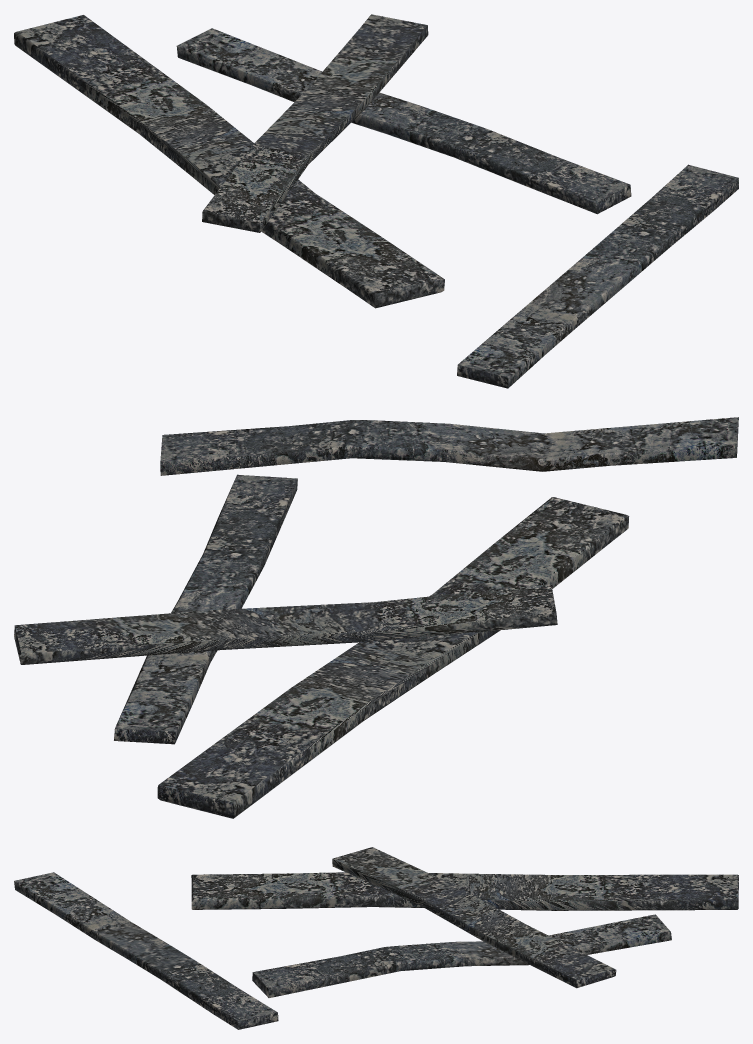
File: SM_wood_debris_01.fbx
The picture shows the model from 3 angles, top to bottom: view 1: azimuth 30°, elevation 25°; view 2: azimuth 150°, elevation 25°; view 3: azimuth 270°, elevation 25°; orthographic projection. The views are drawn at different scales.
Parts seen in each view (by area): view 1: SM_wood_debris_01_LOD0; view 2: SM_wood_debris_01_LOD0; view 3: SM_wood_debris_01_LOD0.
Part boxes in pixels (x1,y1,x2,y2): SM_wood_debris_01_LOD0: (14,14,738,388); SM_wood_debris_01_LOD0: (14,417,738,818); SM_wood_debris_01_LOD0: (14,847,738,1029).
Size of the model in its own units: 214 by 395 by 12.74.
